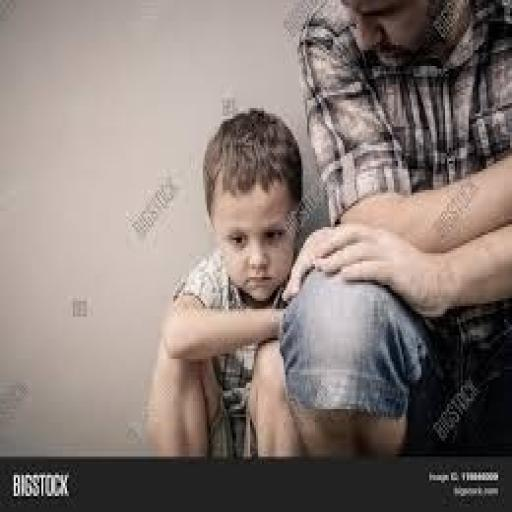hugging: (146, 0, 510, 462), (148, 106, 309, 459)
